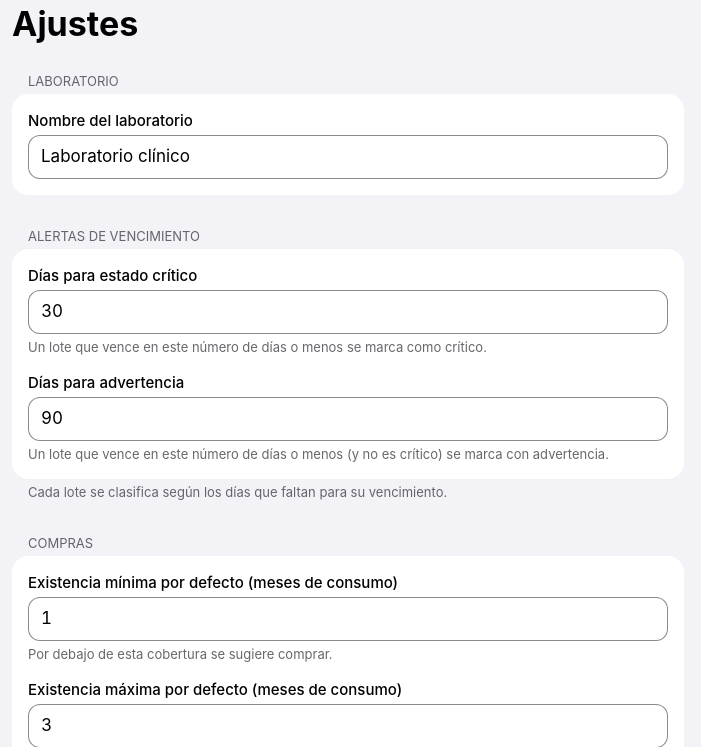
Test: SettingsPage › general settings › does not save and explains invalid values
Clear the field labelled "Nombre del laboratorio" at [348, 157], box x1=28 y1=135 x2=668 y2=179
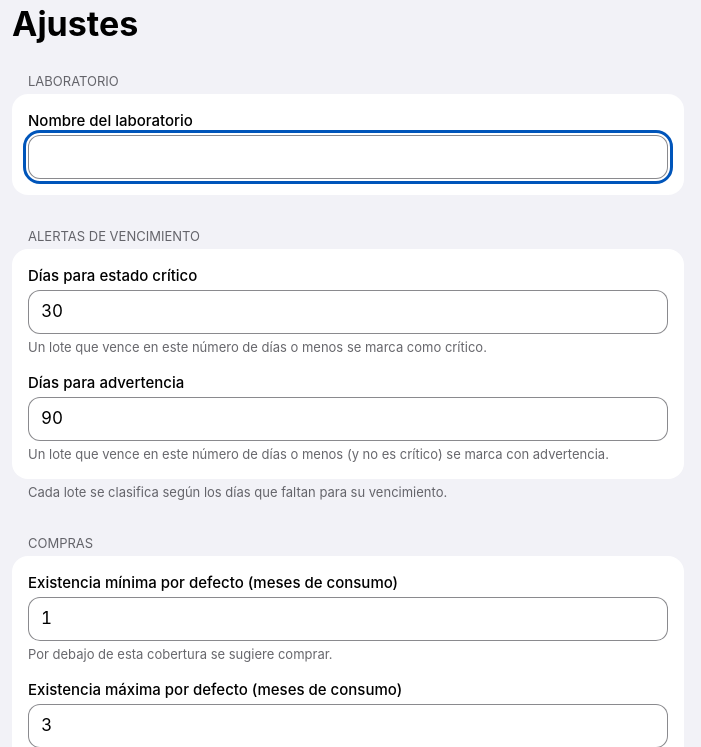
Clear the field labelled "Días para estado crítico" at [348, 312], box x1=28 y1=290 x2=668 y2=334
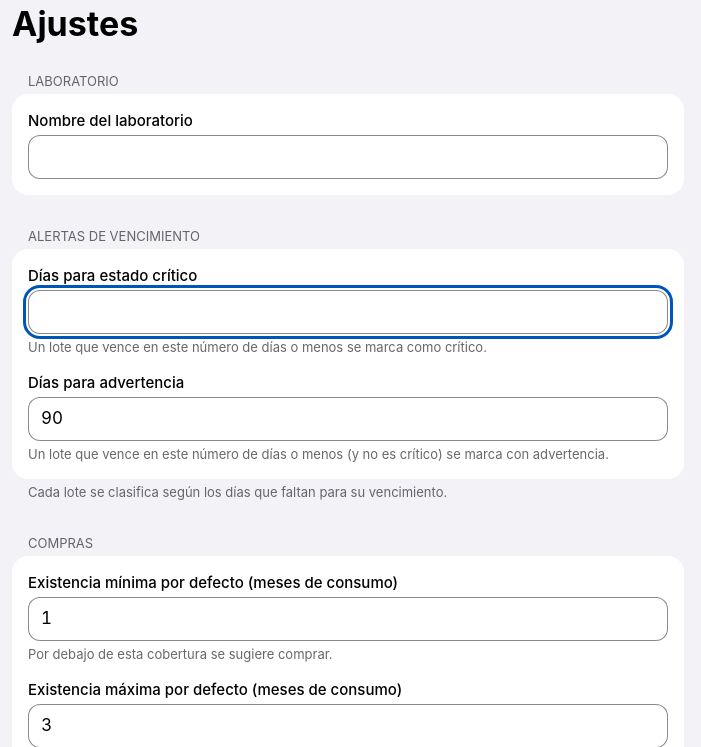
Replace the text in the field labelled "Días para advertencia" with "0" at [348, 419], box x1=28 y1=397 x2=668 y2=441
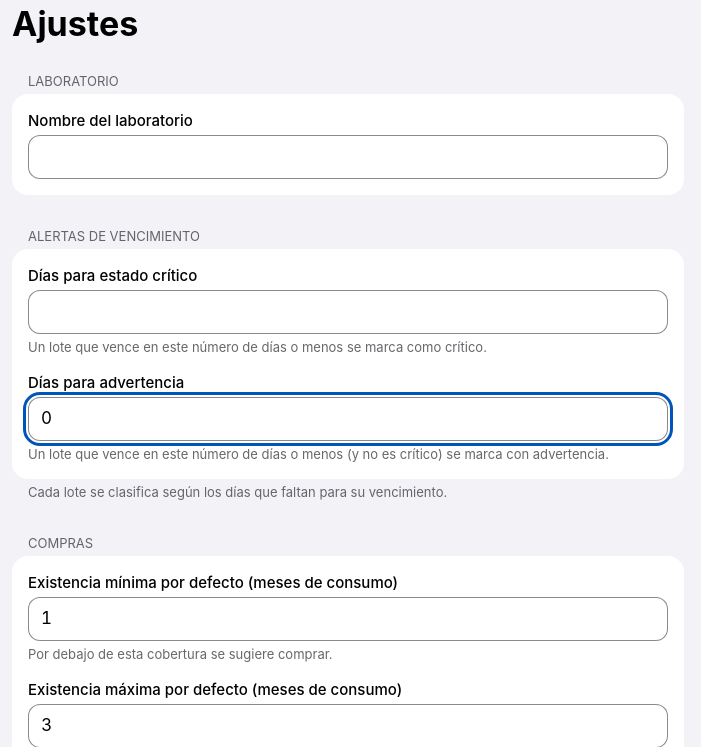
Replace the text in the field labelled "Existencia mínima por defecto (meses de consumo)" with "5" at [348, 619], box x1=28 y1=597 x2=668 y2=641
(page scrolled)
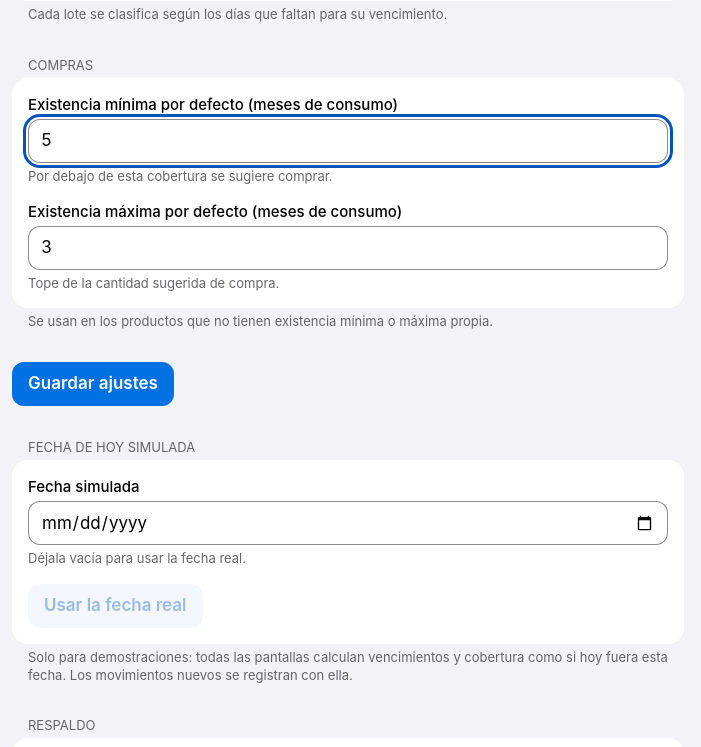
Click the button "Guardar ajustes".
click(93, 384)  # box x1=12 y1=362 x2=174 y2=406
(page scrolled)
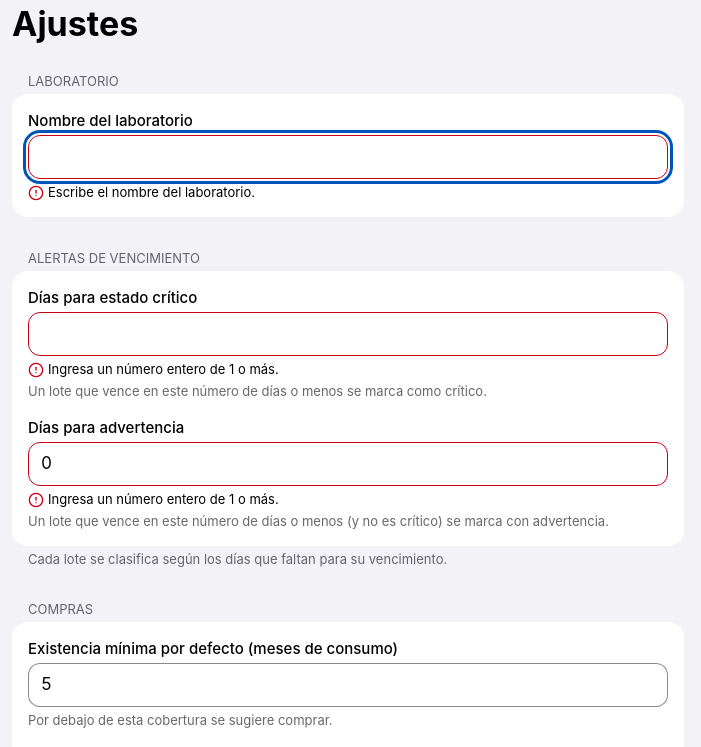
Expected: the text "Escribe el nombre del laboratorio." is shown, x1=48 y1=183 x2=255 y2=201
Expected: the text "Ingresa un número entero de 1 o más." is shown 2 times, x1=48 y1=360 x2=279 y2=378; x1=48 y1=490 x2=279 y2=508
